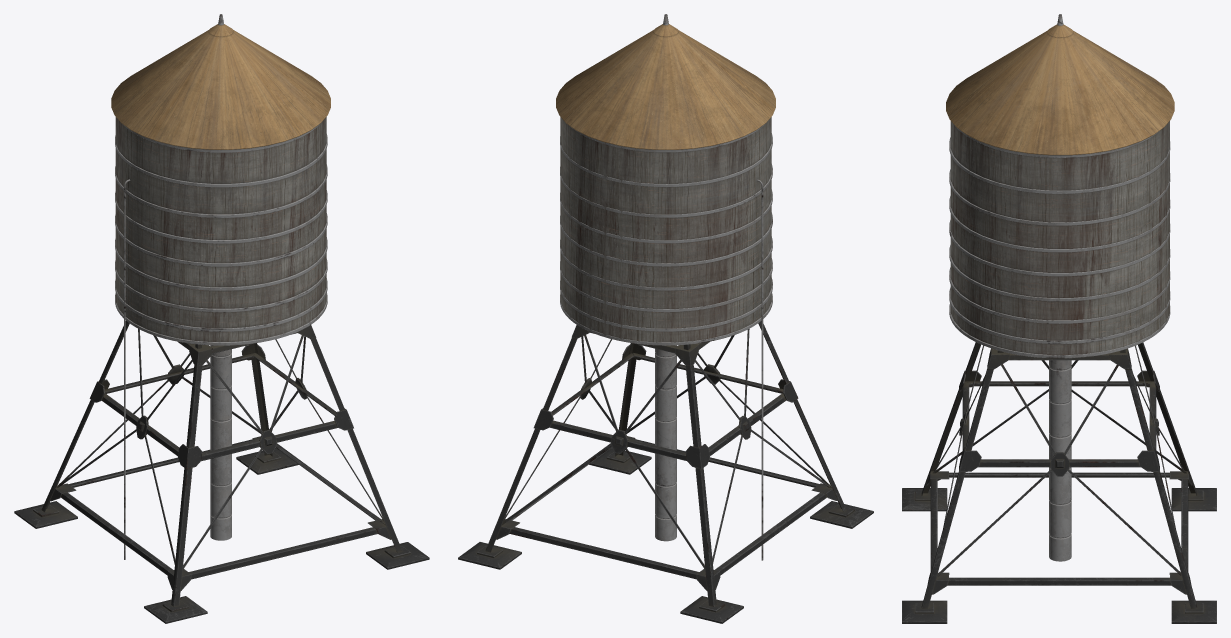
3 renders of one model, left to right at view 1: azimuth 30°, elevation 25°; view 2: azimuth 150°, elevation 25°; view 3: azimuth 270°, elevation 25°, orthographic. The views are drawn at different scales.
Parts seen in each view (by area): view 1: WaterTank_01; view 2: WaterTank_01; view 3: WaterTank_01.
Boxes of the visible parts, <box> form: WaterTank_01: <box>14,14,429,623</box>; WaterTank_01: <box>458,14,873,623</box>; WaterTank_01: <box>902,14,1216,623</box>.
Bounding box in the file's own units: 265 × 501 × 264.
